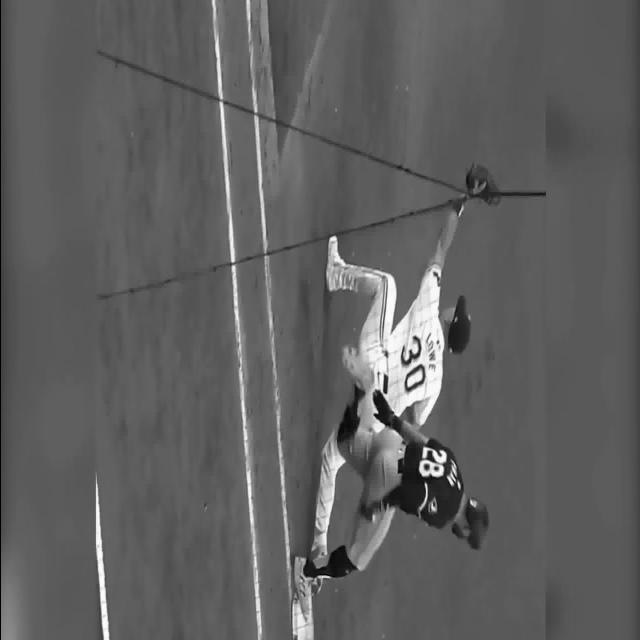base: (291, 598, 312, 640)
baseball_glove: (465, 164, 500, 204)
shoe: (340, 345, 374, 393), (292, 556, 311, 620), (325, 236, 344, 291)
